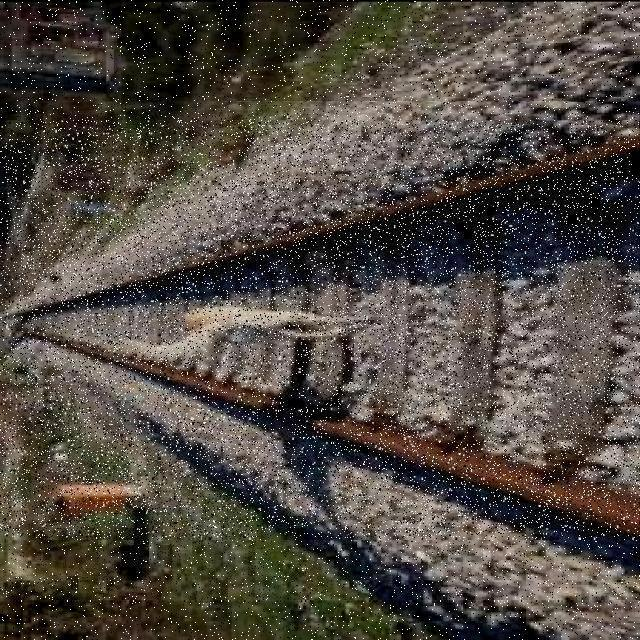rail: (8, 103, 640, 602)
